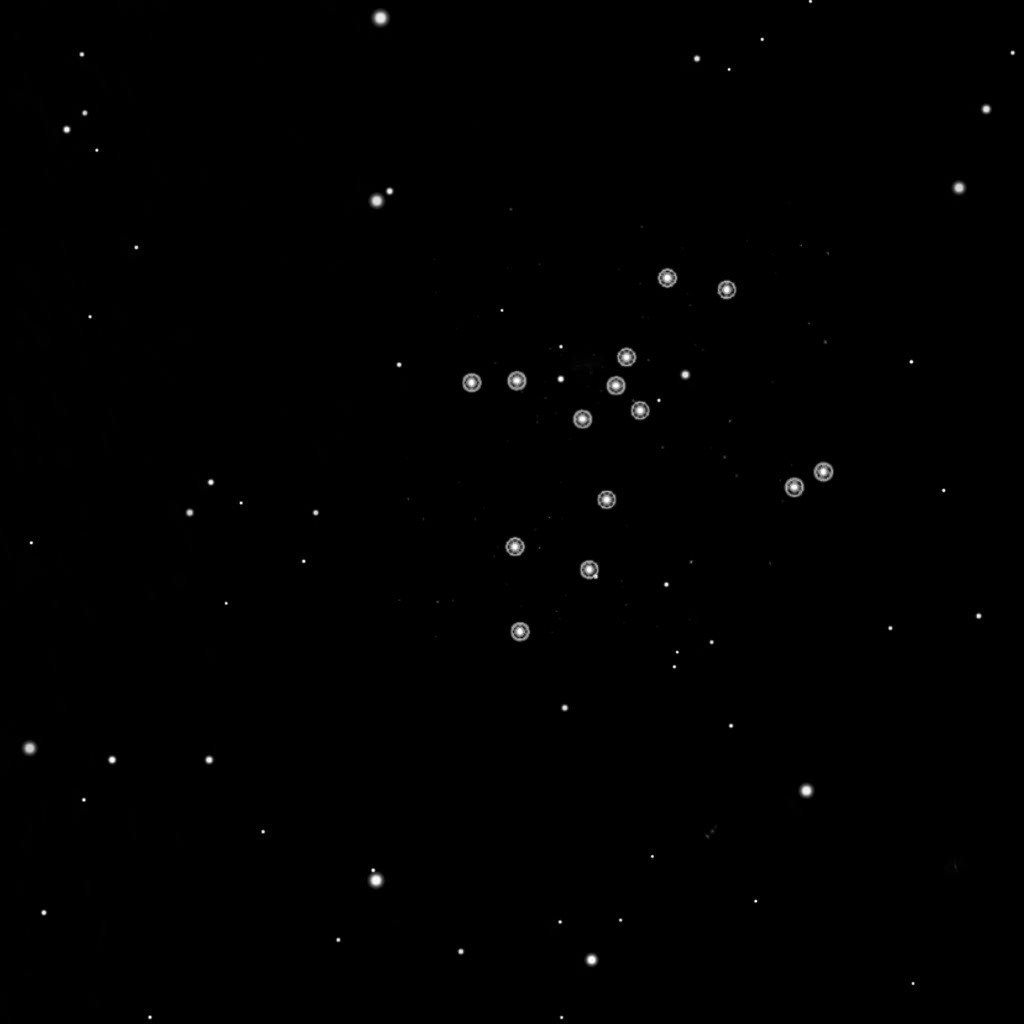canis_major: (568, 266, 739, 436)
